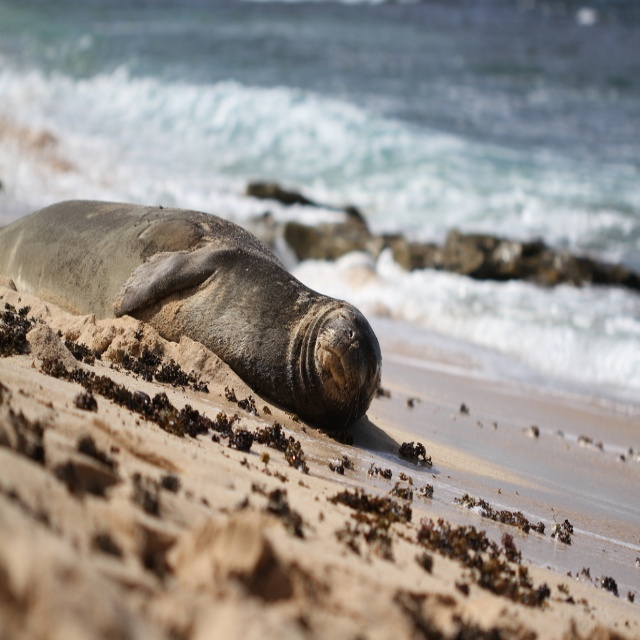Harbor seal: (0, 197, 389, 432)
